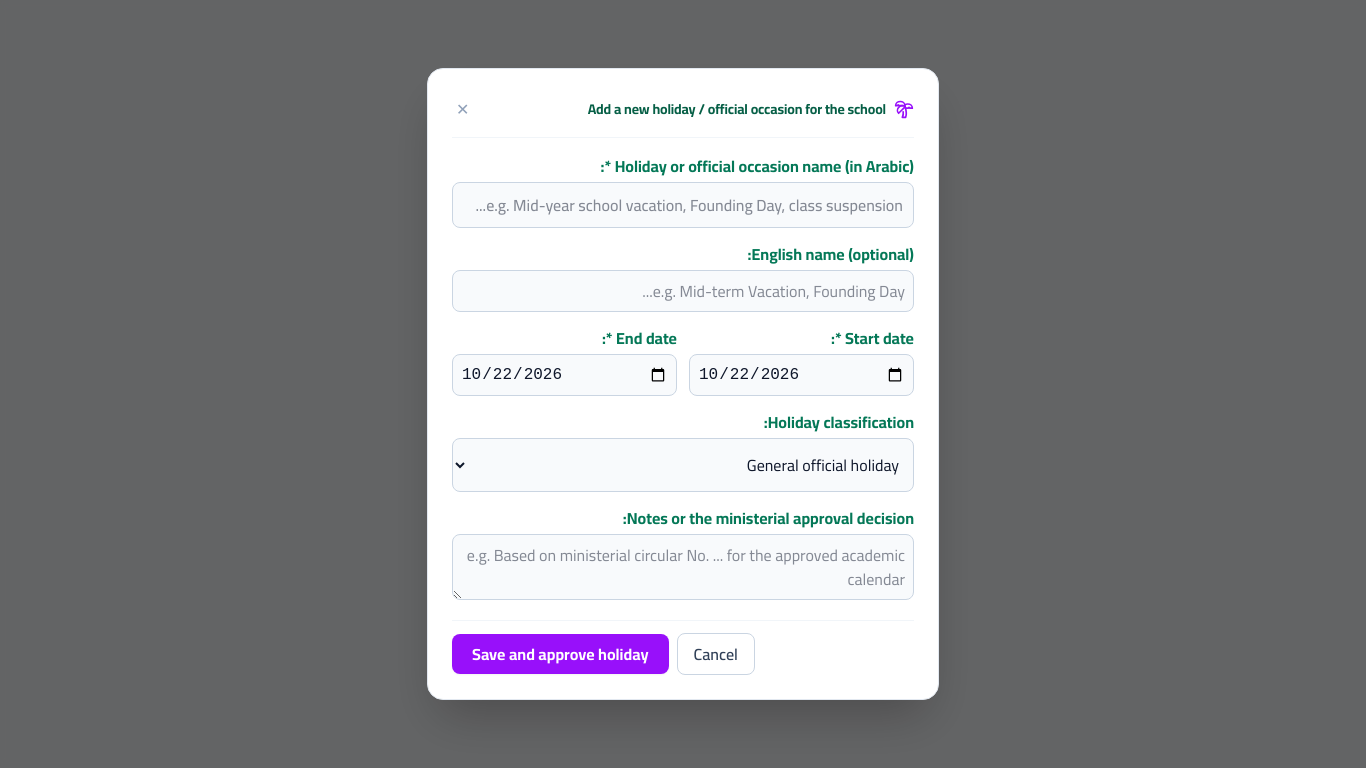
Test: AddHolidayModal › renders English copy when lang is en
Check: the heading "Add a new holiday / official occasion for the school" is shown, box [588,99,886,119]
Click the button "Save and approve holiday" at coordinates (560, 654), box [452,634,668,674]
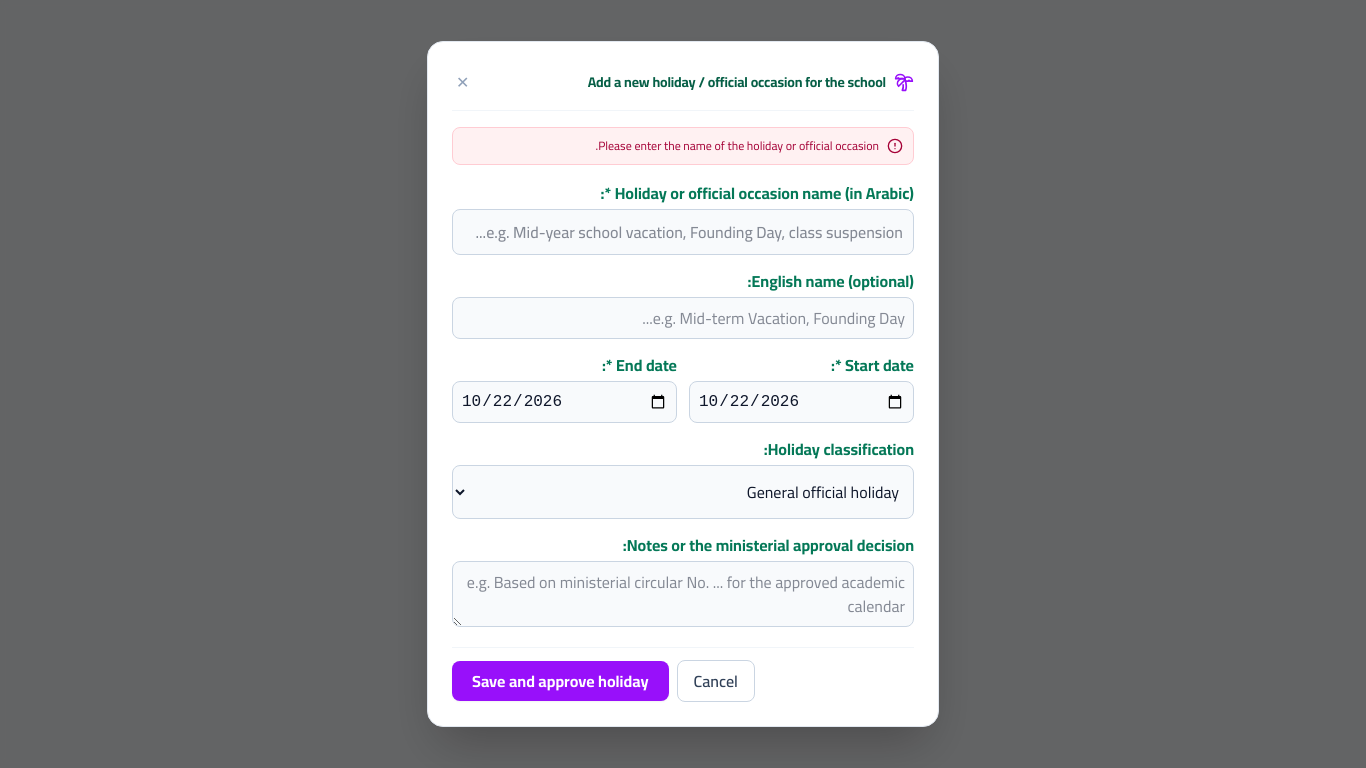
Check: the text "Please enter the name of the holiday or official occasion." is shown, box [596,138,879,154]
